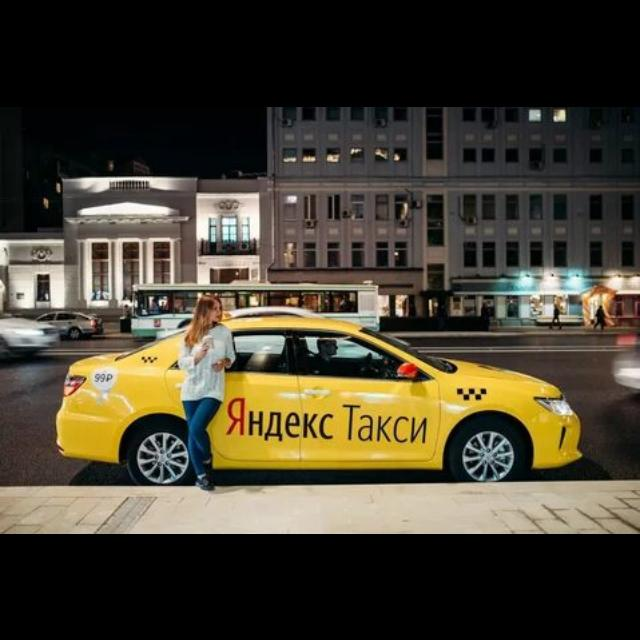taxi: (57, 308, 584, 487)
